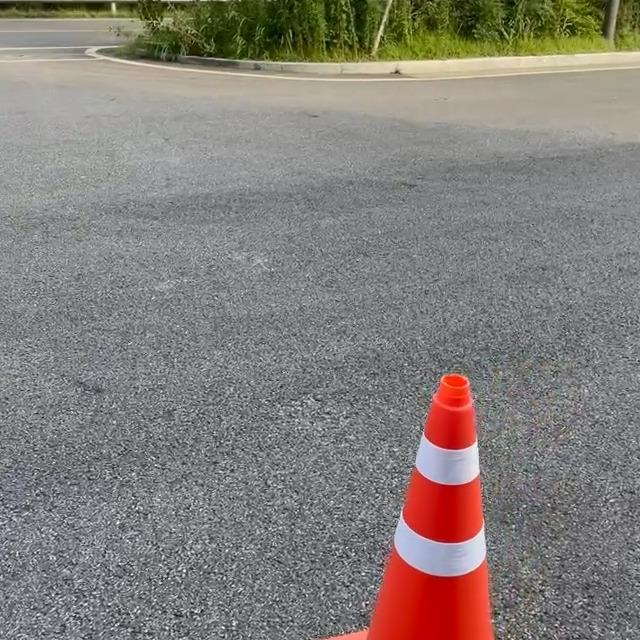fallen_object: (301, 334, 519, 640)
